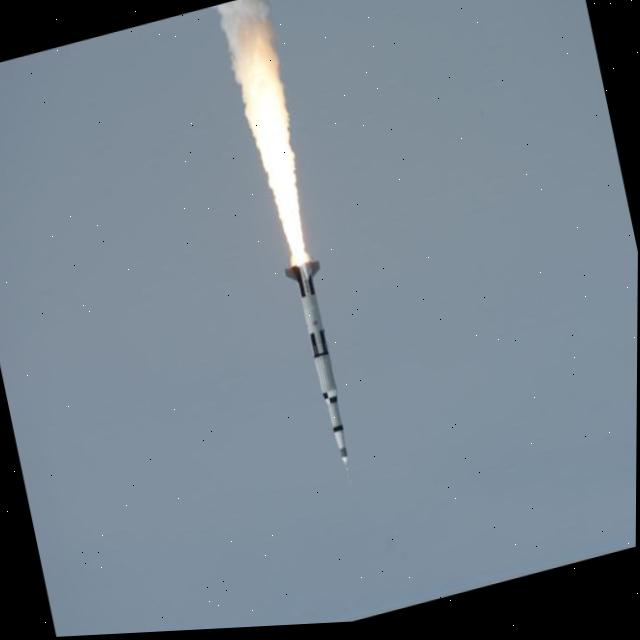missile: (277, 252, 371, 481)
